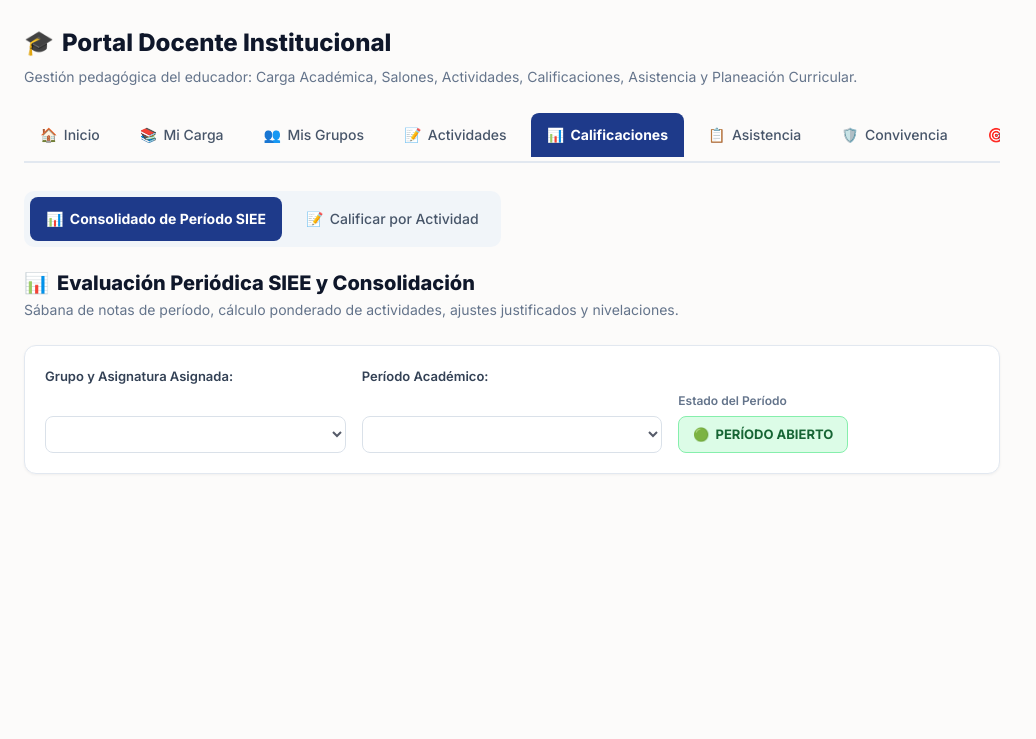
Test: TeacherPortal Component Tests › navigates to Calificaciones and renders official gradesheet table with score bounds
This screenshot has width=1036, height=739.
// Switch to Activity grading sub-mode
Click the button "📝 Calificar por Actividad" at [392, 219], box [290,197,495,241]
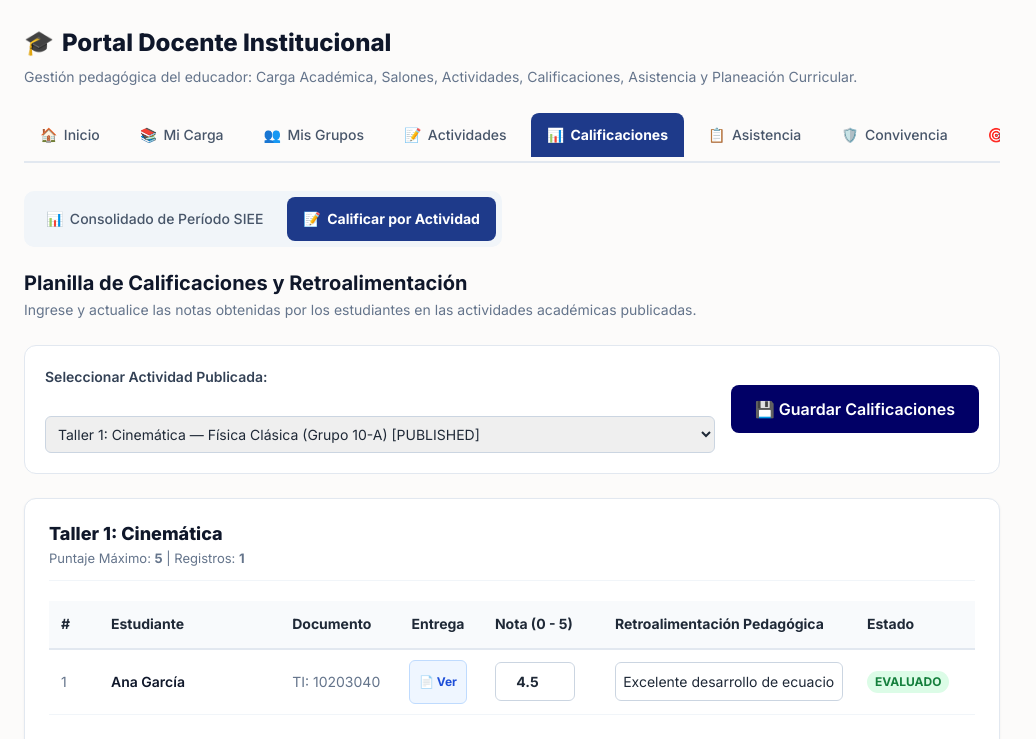
Check: the heading "Planilla de Calificaciones y Retroalimentación" is shown, box [24,271,468,295]
Check: the text "Ana García" is shown, box [99,649,280,714]
Check: the number field showing "4.5" is shown, box [495,662,575,701]
